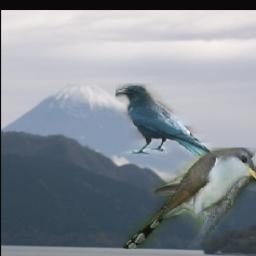Crow: (116, 84, 213, 158)
Cuckoo: (123, 149, 256, 250)
